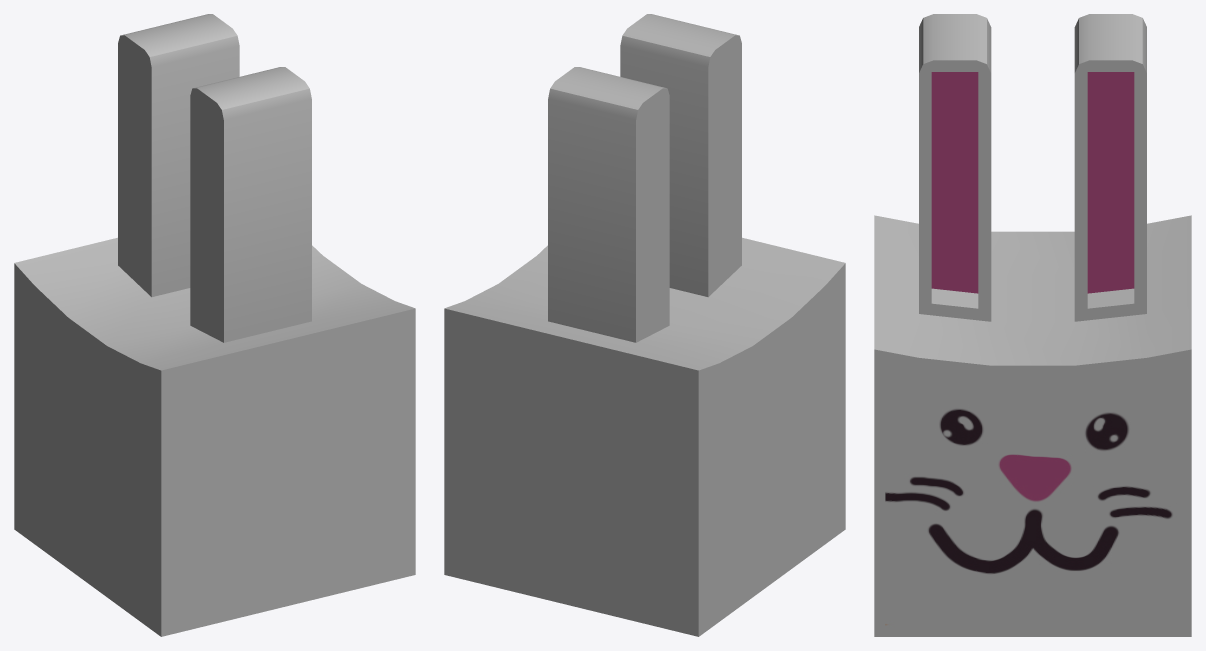
Rendered from rabbit.fbx.
The picture shows the model from 3 angles, left to right: view 1: azimuth 30°, elevation 25°; view 2: azimuth 150°, elevation 25°; view 3: azimuth 270°, elevation 25°; orthographic projection. The views are drawn at different scales.
Visible parts, largest first — view 1: Cube; view 2: Cube; view 3: Cube.
Part boxes in pixels (x1,y1,x2,y2): Cube: (14, 14, 415, 636); Cube: (444, 14, 845, 636); Cube: (874, 14, 1191, 636).
Size of the model in its own units: 200 by 371 by 200.
1 material, 1 textured.
